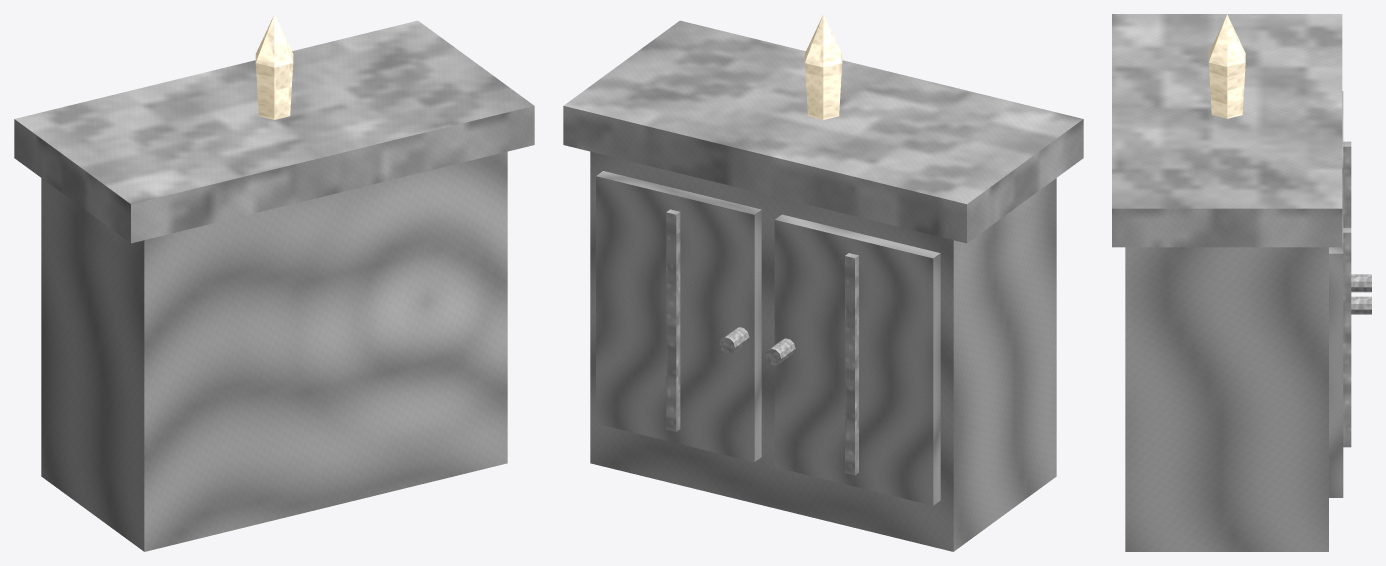
Rendered from furniture-lapidary-cabinet.glb.
3 renders of one model, left to right at view 1: azimuth 30°, elevation 25°; view 2: azimuth 150°, elevation 25°; view 3: azimuth 270°, elevation 25°, orthographic.
Visible parts, largest first — view 1: body, top, cabinet-crystal; view 2: top, body, left-door, right-door, door-band-r, door-band-l, cabinet-crystal; view 3: body, top, right-door, cabinet-crystal, door-band-r, door-band-l, handle-l, handle-r.
Boxes of the visible parts, x1,y1,x2,y2 form: body: (41, 151, 507, 551); top: (14, 20, 534, 243); cabinet-crystal: (255, 14, 293, 119); top: (563, 20, 1083, 243); body: (590, 151, 1056, 551); left-door: (774, 214, 940, 505); right-door: (596, 171, 761, 461); door-band-r: (666, 209, 680, 431); door-band-l: (845, 253, 858, 475); cabinet-crystal: (804, 14, 842, 119); body: (1125, 247, 1328, 551); top: (1112, 14, 1342, 247); right-door: (1329, 177, 1343, 497); cabinet-crystal: (1208, 14, 1245, 118); door-band-r: (1343, 228, 1351, 447); door-band-l: (1343, 141, 1351, 227); handle-l: (1351, 274, 1371, 292); handle-r: (1351, 296, 1371, 314).
Bounding box in the file's own units: 1.4 × 1.51 × 0.79.
6 materials, 6 textured.
